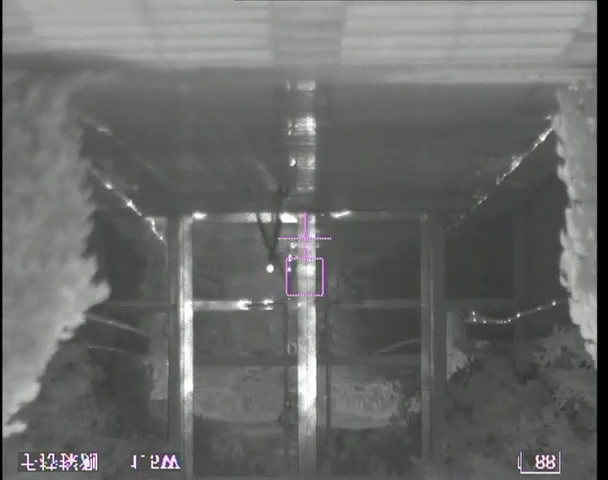my: (265, 263, 275, 275)
